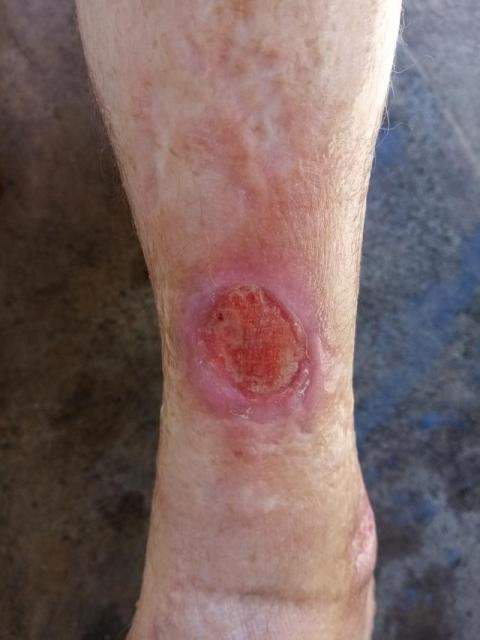wound: (182, 279, 319, 424)
